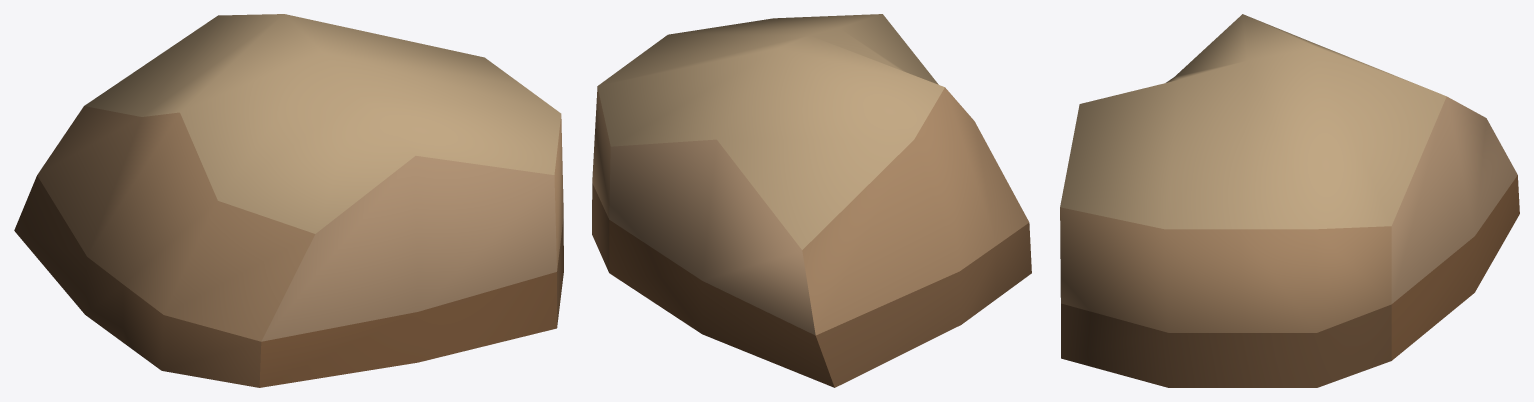
File: consumables-bakedgoods-breadcrumb_v5.glb
The picture shows the model from 3 angles, left to right: view 1: azimuth 30°, elevation 25°; view 2: azimuth 150°, elevation 25°; view 3: azimuth 270°, elevation 25°; orthographic projection. The views are drawn at different scales.
Visible parts, largest first — view 1: BreadCrumb_v5; view 2: BreadCrumb_v5; view 3: BreadCrumb_v5.
Part boxes in pixels (x1,y1,x2,y2): BreadCrumb_v5: (14, 14, 563, 387); BreadCrumb_v5: (592, 14, 1031, 387); BreadCrumb_v5: (1060, 14, 1519, 387).
Bounding box in the file's own units: 0.00606 × 0.00365 × 0.00618.
